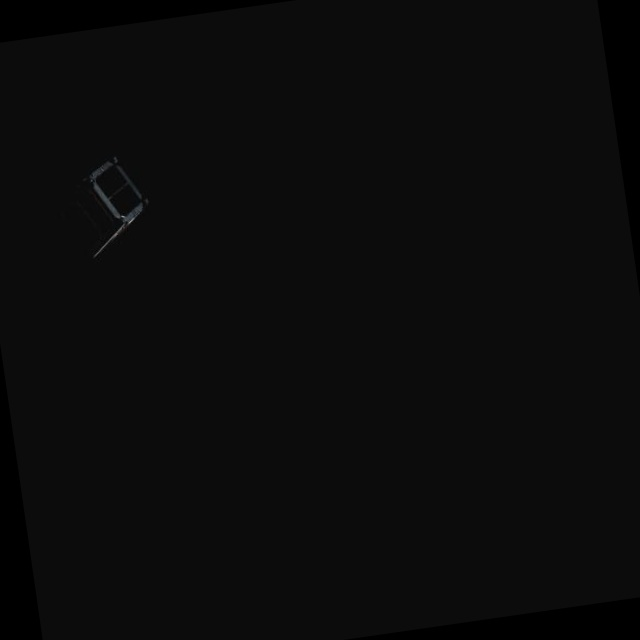satellite: (46, 154, 150, 263)
